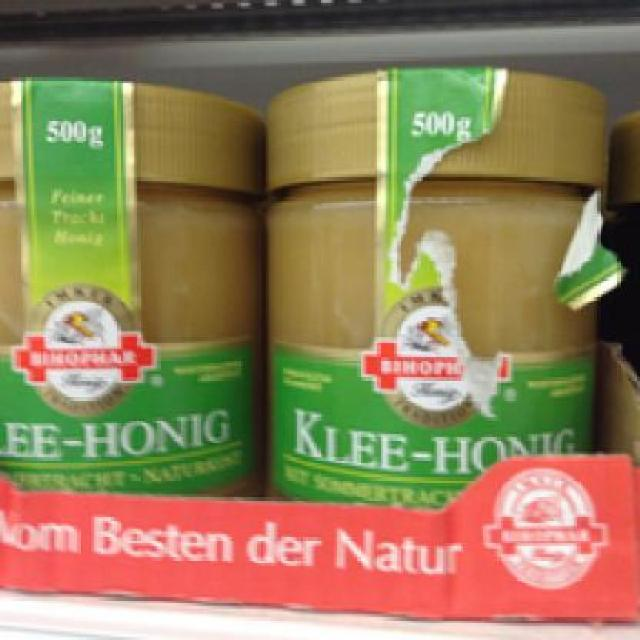Honey: (266, 66, 612, 514), (0, 73, 269, 510)
